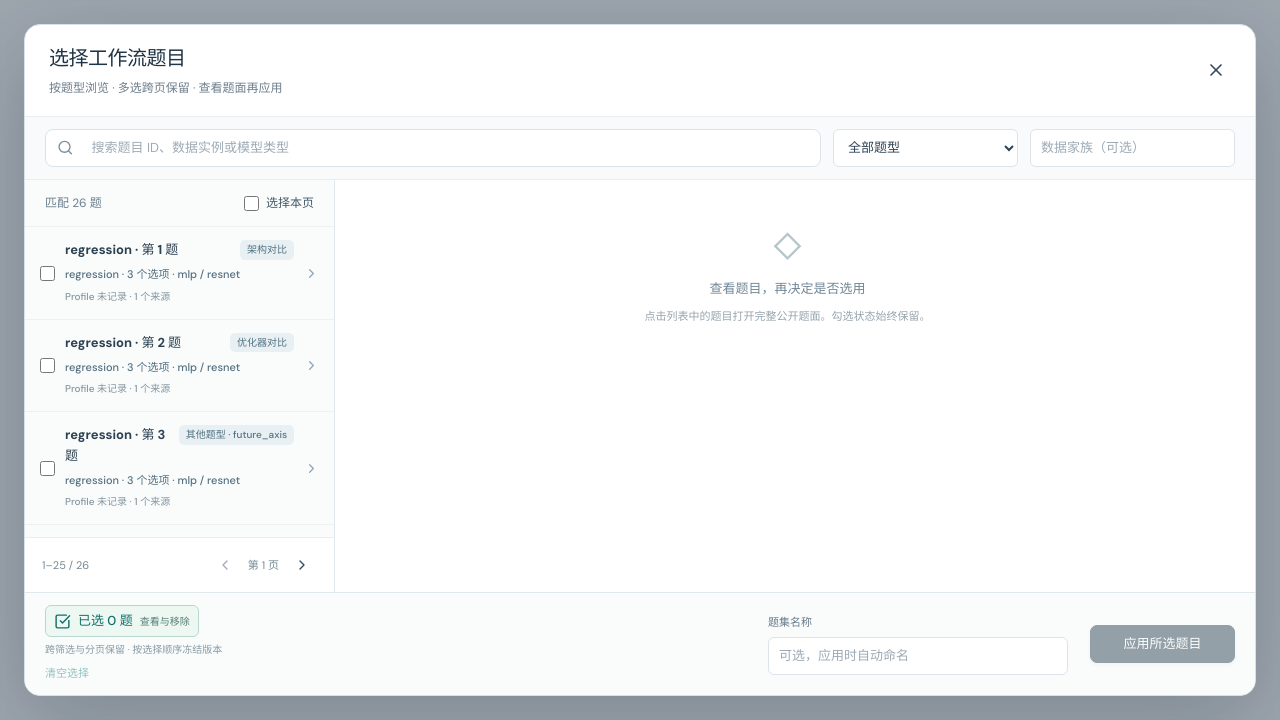
Test: keeps the selected questions visible when immutable set creation is rejected
Click the checkbox named "选择 q1" at {"x": 48, "y": 273}, box [40,266,55,280]
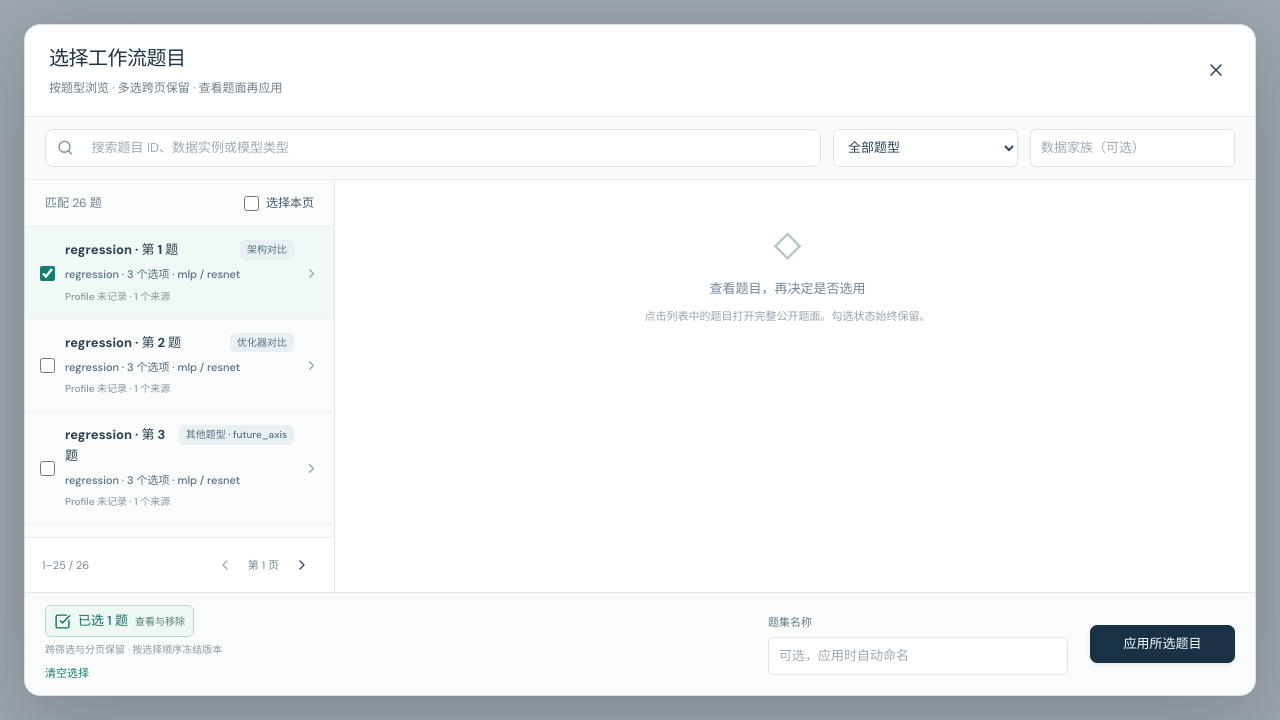
Click the button "应用所选题目" at {"x": 1162, "y": 644}, box [1090,625,1235,663]
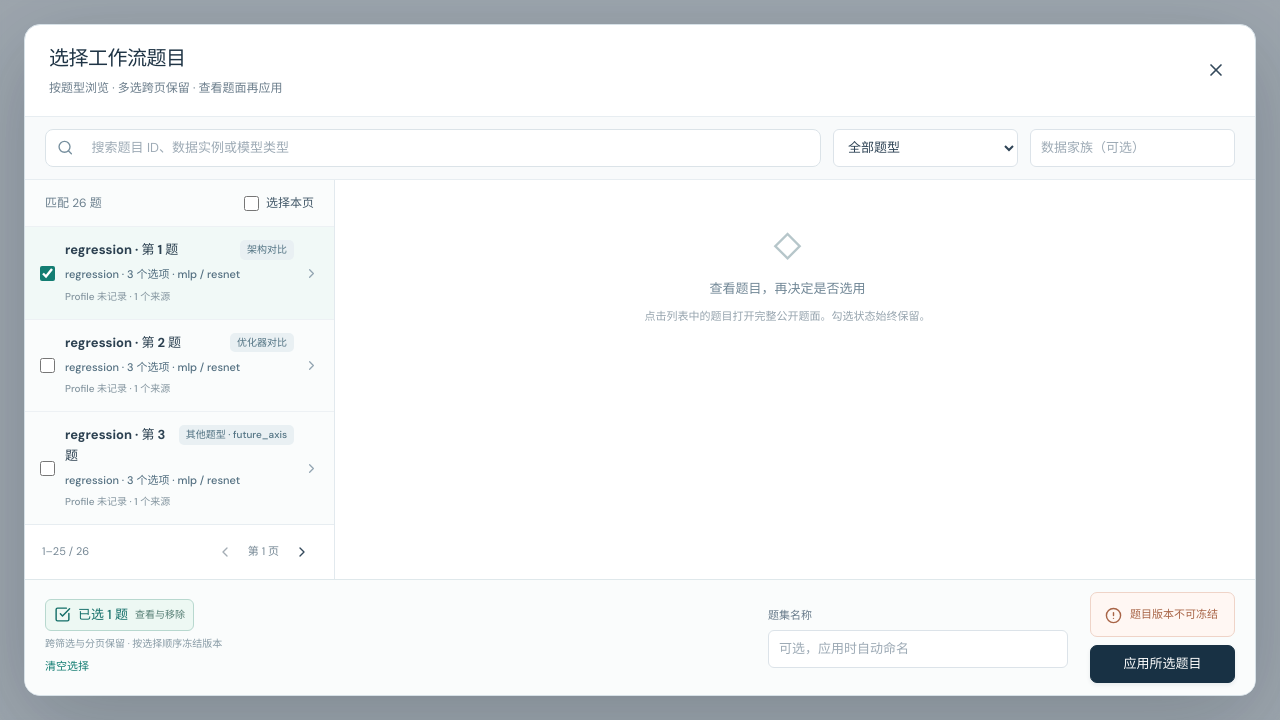
expect the checkbox named "选择 q1" is checked: met, box [40,266,55,280]
expect the text "题目版本不可冻结" is shown: met, box [1130,605,1218,624]
